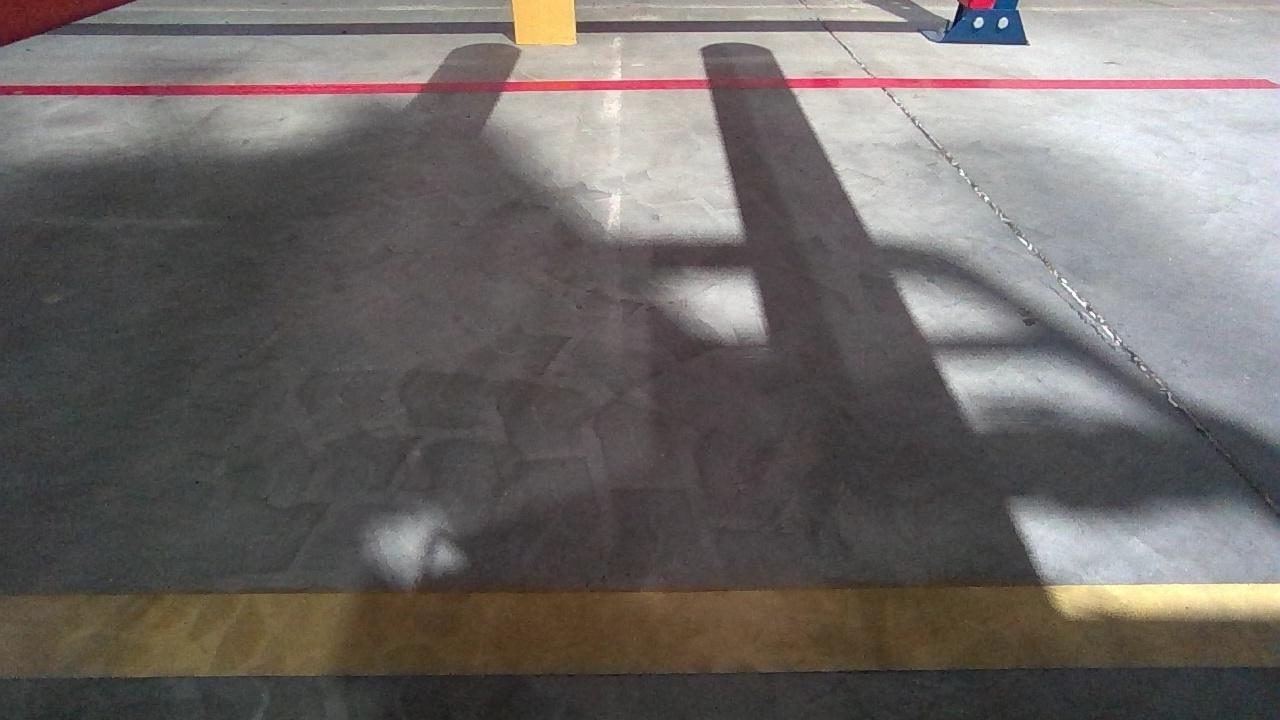orange_strip: (512, 0, 575, 44)
red_line: (2, 81, 1280, 92)
yellow_line: (4, 592, 1280, 676)
